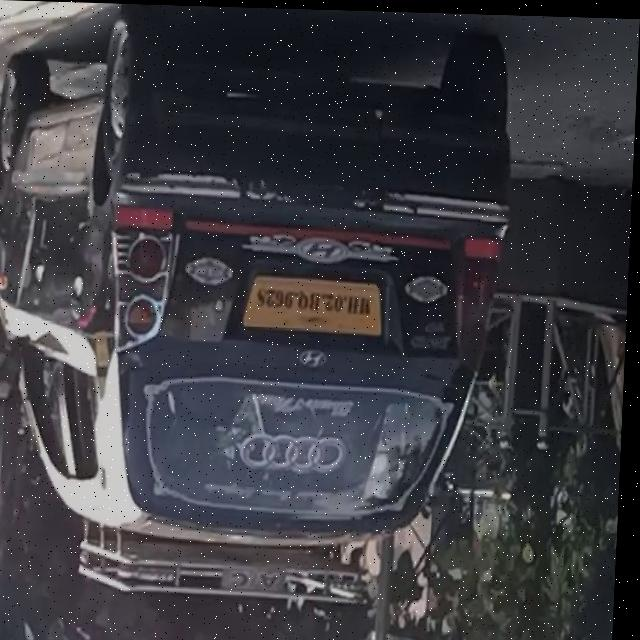plate: (243, 268, 389, 338)
